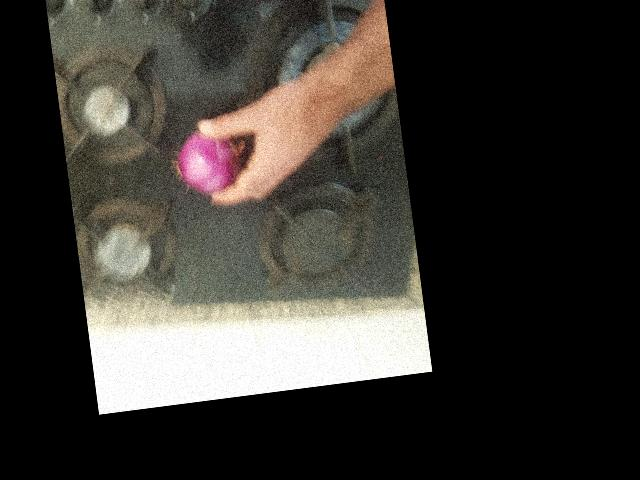onion: (138, 225, 213, 289)
